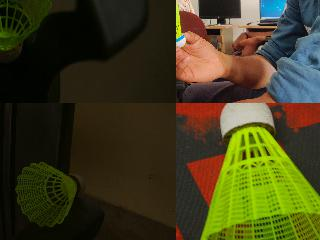shuttlecock: (199, 103, 319, 239), (15, 162, 85, 226), (0, 0, 52, 62), (176, 4, 186, 49)
